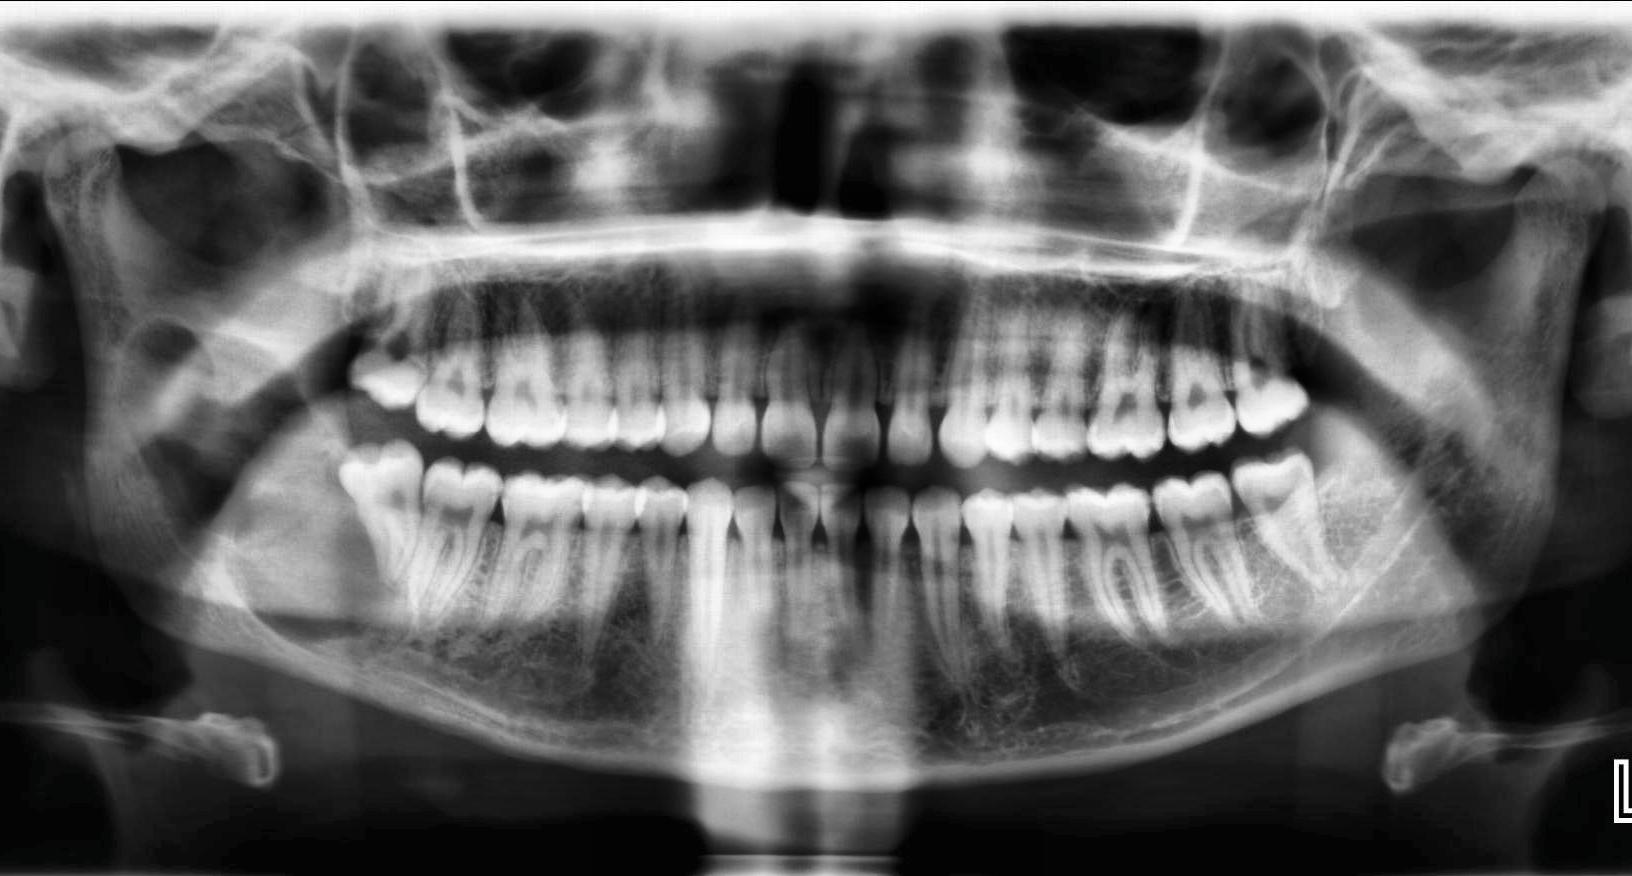keratokist: (117, 312, 417, 665)
